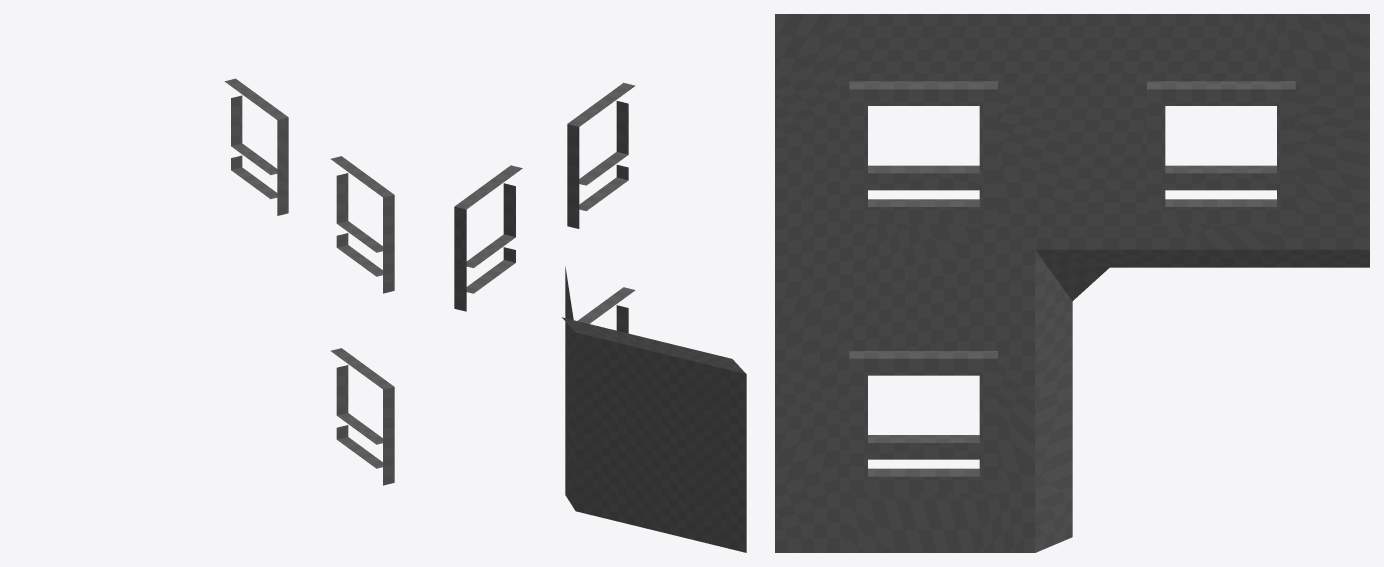
3 views of the same model, side by side, from view 1: azimuth 30°, elevation 25°; view 2: azimuth 150°, elevation 25°; view 3: azimuth 270°, elevation 25° (orthographic). The views are drawn at different scales.
Visible parts, largest first — view 1: 3; view 2: 3; view 3: 3.
Part boxes in pixels (left/top/right/bottom): 3: left=224, top=78, right=394, bottom=485; 3: left=454, top=82, right=746, bottom=552; 3: left=775, top=14, right=1369, bottom=552.
Size of the model in its own units: 2.12 by 4 by 4.
Materials: 2 (2 with a texture image).
